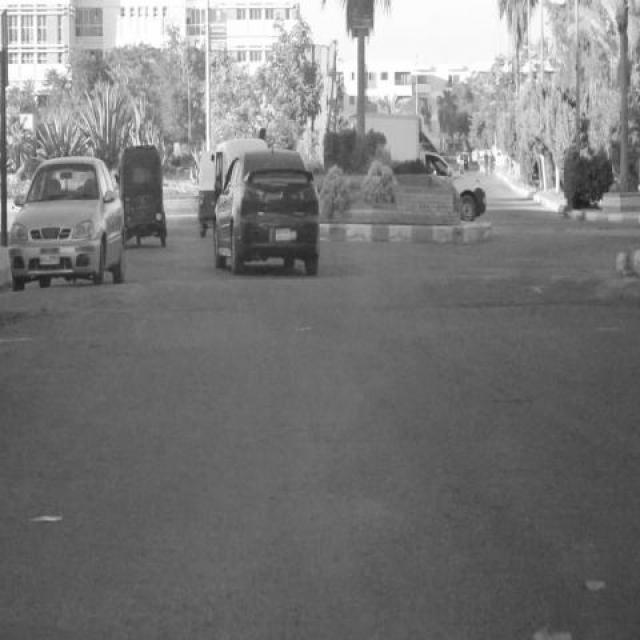Unmarked Bump: (0, 273, 640, 328)
